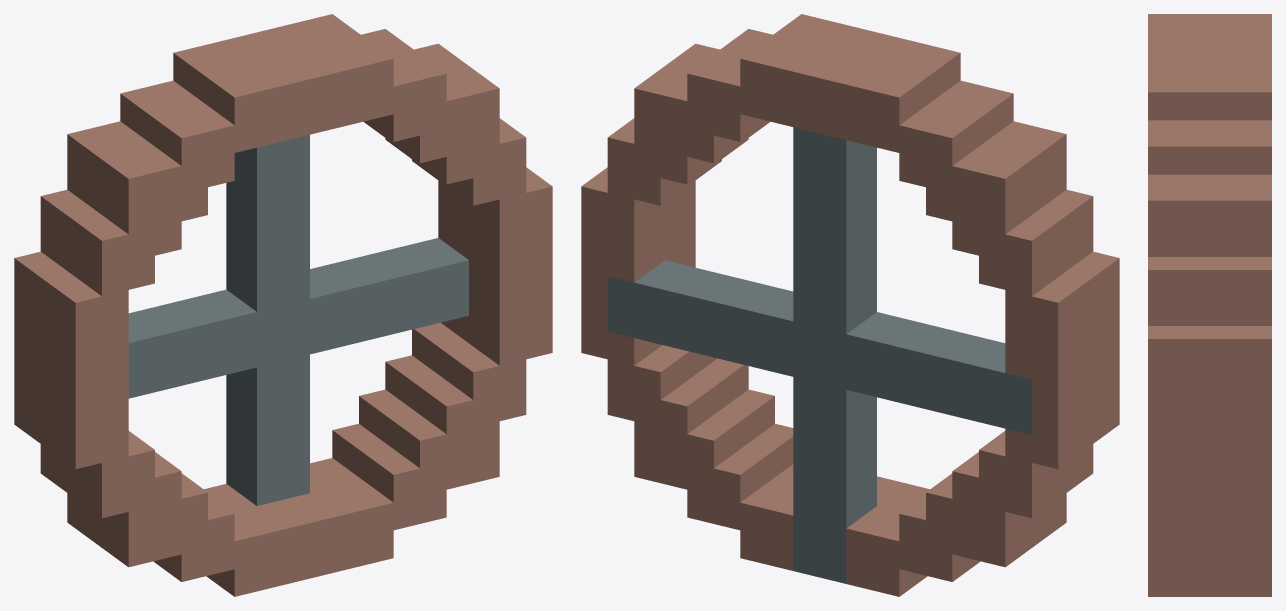
Rendered from automotive-07.glb.
3 views of the same model, side by side, from view 1: azimuth 30°, elevation 25°; view 2: azimuth 150°, elevation 25°; view 3: azimuth 270°, elevation 25° (orthographic).
Visible parts, largest first — view 1: Steering wheel; view 2: Steering wheel; view 3: Steering wheel.
Part boxes in pixels (box(x1,y1,x2,y2)): Steering wheel: box(14, 14, 552, 596); Steering wheel: box(581, 14, 1119, 596); Steering wheel: box(1148, 14, 1271, 596).
Bounding box in the file's own units: 1.44 × 1.44 × 0.32.
